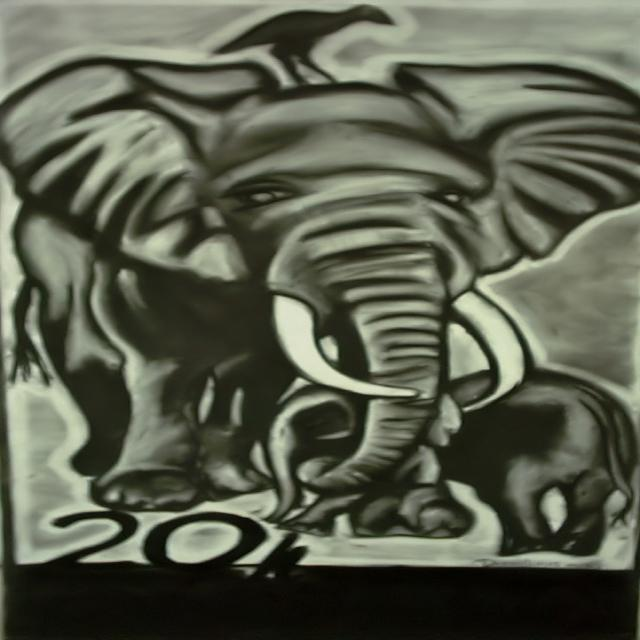elephant: (0, 120, 605, 582)
